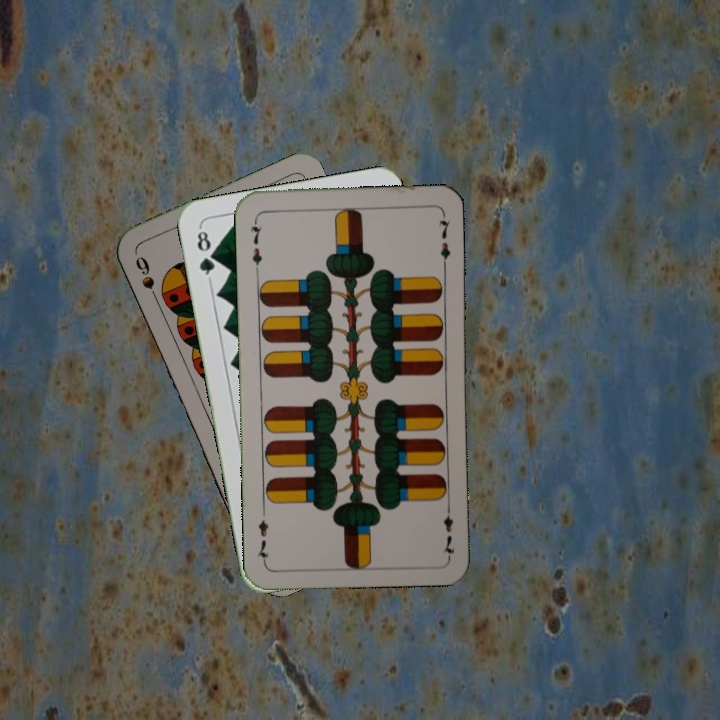E7: (246, 215, 265, 274), (439, 500, 457, 559)
G8: (193, 224, 218, 282)
S9: (131, 251, 163, 307)
